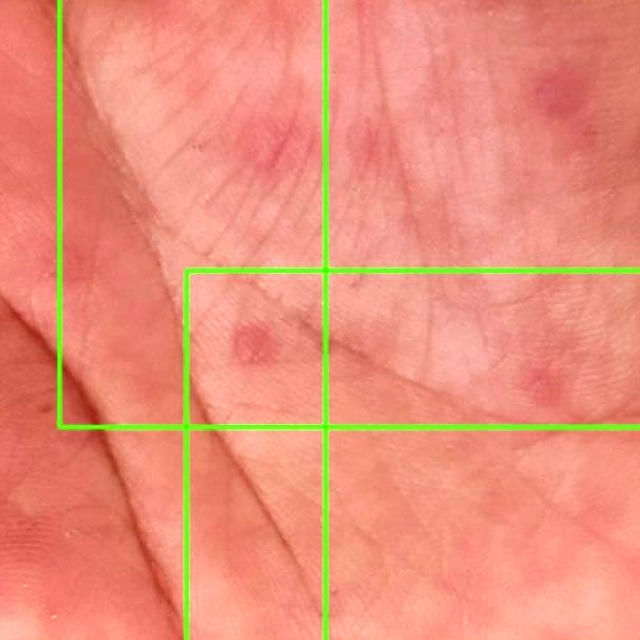Contact Dermatitis: (59, 0, 639, 427), (0, 0, 326, 639), (186, 270, 639, 639)
